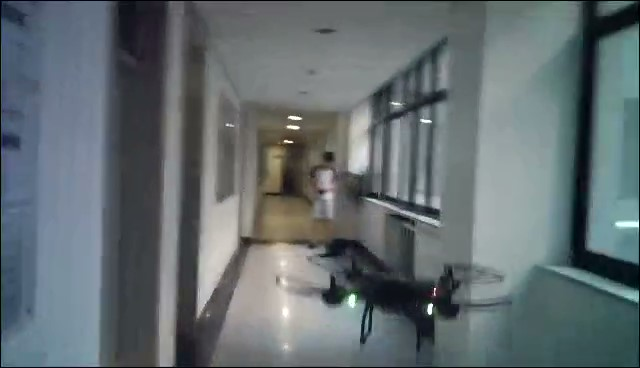drone: (280, 246, 513, 348)
person: (308, 148, 340, 246)
